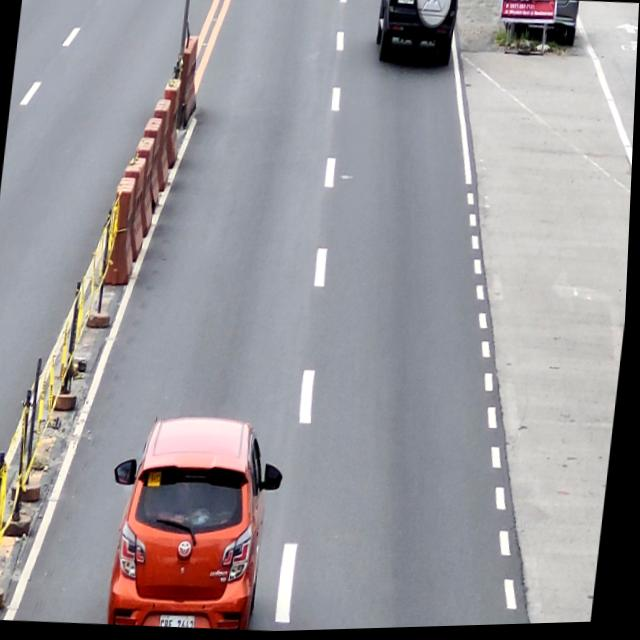Car: (102, 411, 292, 636), (373, 0, 459, 71)
License-Plate: (164, 614, 200, 629), (397, 0, 415, 6)
